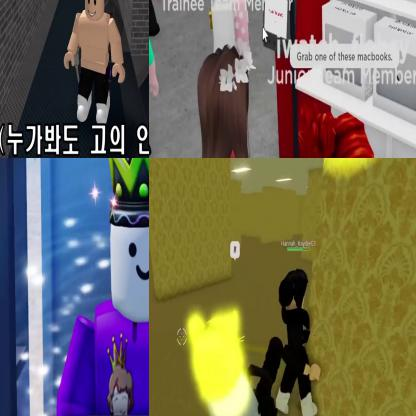Roblox-Avatar: (58, 159, 149, 416), (198, 44, 274, 158), (259, 103, 416, 158), (64, 1, 127, 125), (277, 269, 323, 416)
